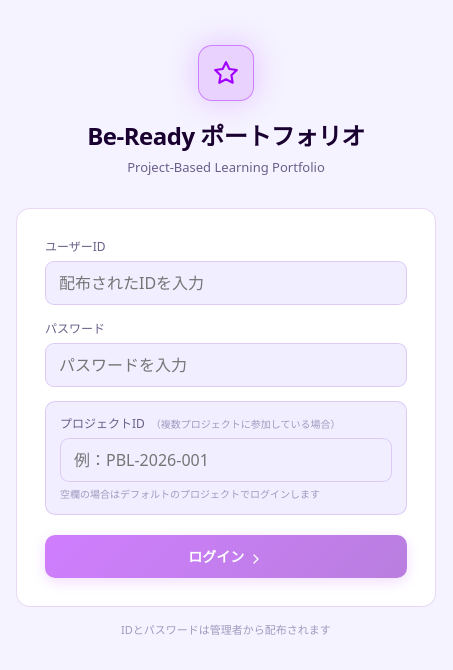
App - ログインエラー › isFirstLogin=true の場合はパスワード変更画面に遷移する
This screenshot has width=453, height=670.
In the field with placeholder "配布されたIDを入力": (226,283) top-left (45, 261), bottom-right (407, 305), type "first-login-user"
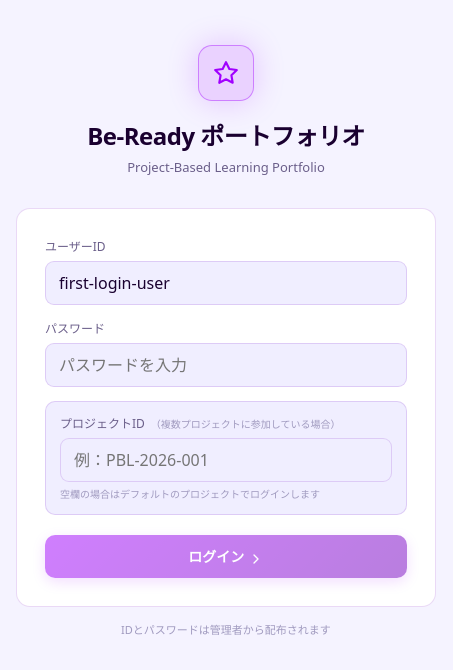
In the password field with placeholder "パスワードを入力": (226,365) top-left (45, 343), bottom-right (407, 387), type "initialpassword"
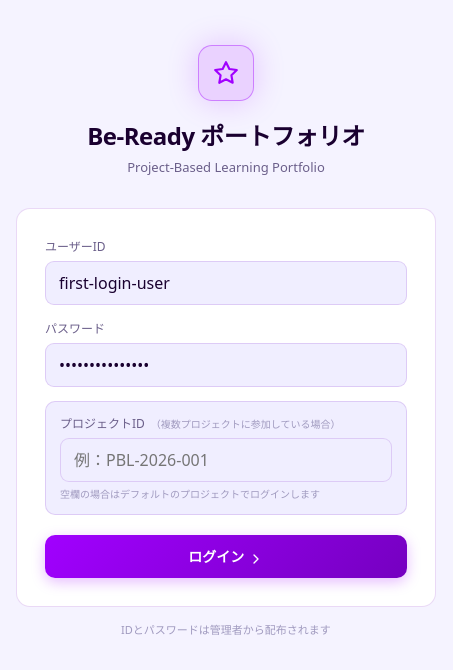
Click the button "ログイン": (226,556) top-left (45, 535), bottom-right (407, 578)
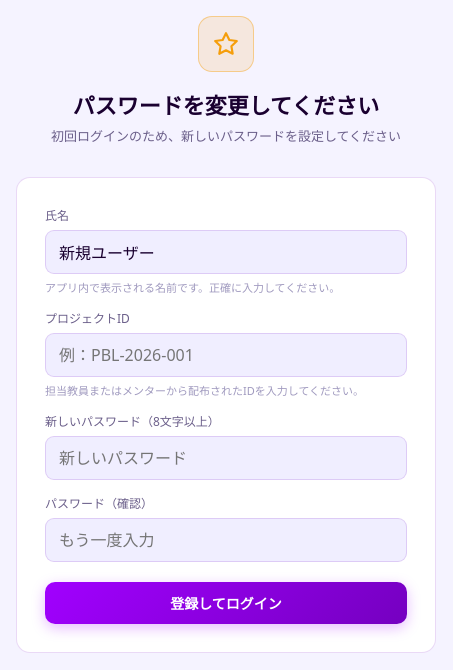
Result: the text "初回ログインのため、新しいパスワードを設定してください" is shown at top-left (51, 126), bottom-right (401, 144)
